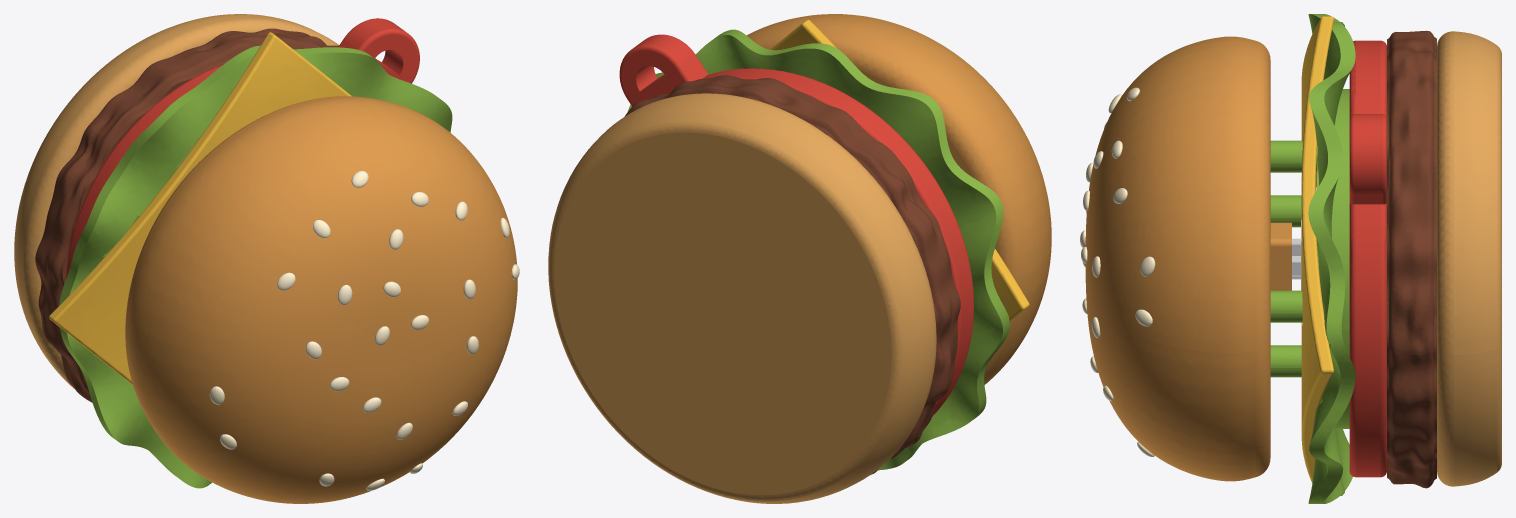
Rendered from burger.glb.
3 views of the same model, side by side, from view 1: azimuth 30°, elevation 25°; view 2: azimuth 150°, elevation 25°; view 3: azimuth 270°, elevation 25° (orthographic). The views are drawn at different scales.
Parts seen in each view (by area): view 1: o1.6, o1.8, o1.7.1, o1.3.1, o1.2.1, o1.4; view 2: o1.2.1, o1.6, o1.8, o1.3.1, o1.4, o1.7.1; view 3: o1.6, o1.2.1, o1.3.1, o1.8, o1.4, o1.7.1.
Boxes of the visible parts, left/top/right/bottom form: o1.6: left=125, top=96, right=517, bottom=503; o1.8: left=59, top=45, right=452, bottom=488; o1.7.1: left=49, top=32, right=351, bottom=384; o1.3.1: left=35, top=28, right=338, bottom=402; o1.2.1: left=14, top=14, right=339, bottom=389; o1.4: left=65, top=18, right=419, bottom=279; o1.2.1: left=548, top=93, right=936, bottom=503; o1.6: left=746, top=14, right=1051, bottom=384; o1.8: left=627, top=29, right=1010, bottom=470; o1.3.1: left=624, top=75, right=960, bottom=474; o1.4: left=619, top=34, right=973, bottom=416; o1.7.1: left=770, top=19, right=1029, bottom=321; o1.6: left=1085, top=36, right=1291, bottom=481; o1.2.1: left=1437, top=31, right=1501, bottom=486; o1.3.1: left=1387, top=30, right=1436, bottom=488; o1.8: left=1270, top=14, right=1355, bottom=503; o1.4: left=1349, top=40, right=1386, bottom=477; o1.7.1: left=1301, top=16, right=1333, bottom=482.
Size of the model in its own units: 0.0535 by 0.0535 by 0.0422.
